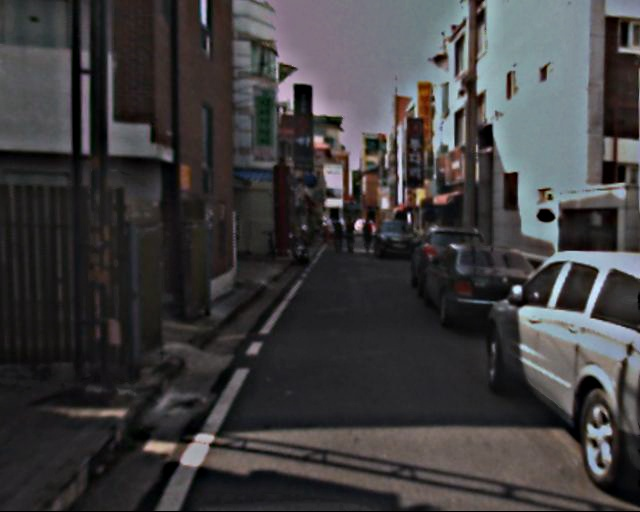person: (344, 216, 360, 256), (330, 218, 346, 257), (359, 221, 375, 259)
